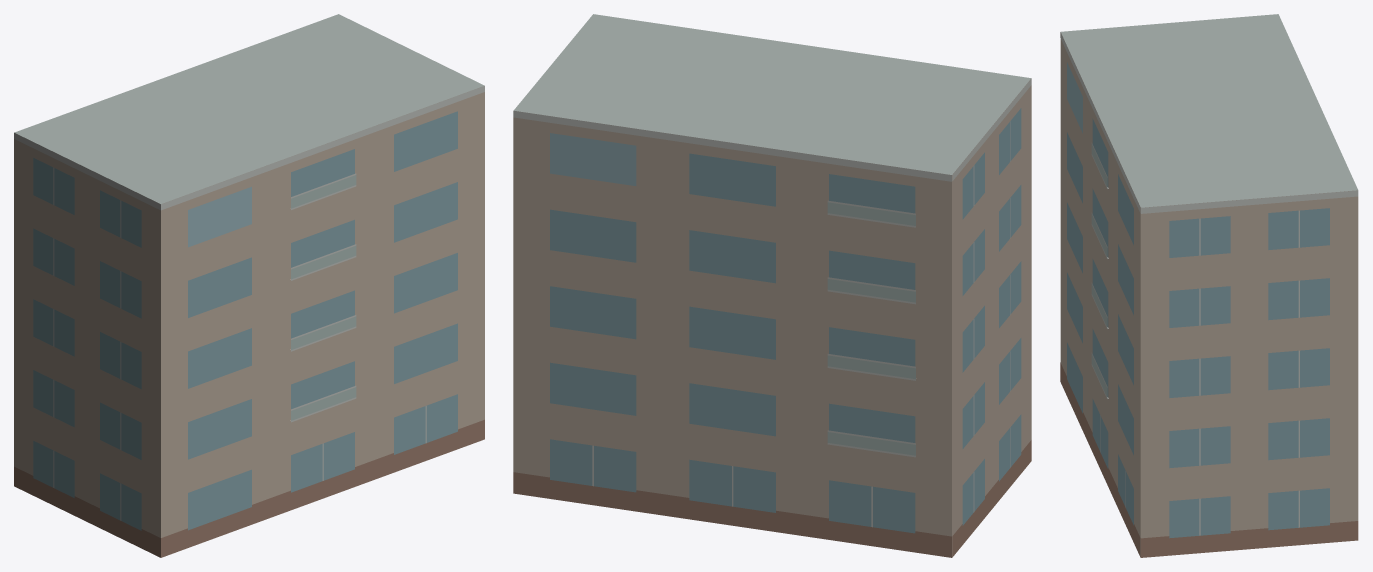
Rendered from survey-upis-33037533.glb.
The picture shows the model from 3 angles, left to right: view 1: azimuth 30°, elevation 25°; view 2: azimuth 150°, elevation 25°; view 3: azimuth 270°, elevation 25°; orthographic projection. The views are drawn at different scales.
Parts seen in each view (by area): view 1: survey-upis-33037533.tmp; view 2: survey-upis-33037533.tmp; view 3: survey-upis-33037533.tmp.
Part boxes in pixels (left/top/right/bottom): survey-upis-33037533.tmp: left=14, top=14, right=484, bottom=557; survey-upis-33037533.tmp: left=513, top=14, right=1031, bottom=557; survey-upis-33037533.tmp: left=1060, top=14, right=1358, bottom=557.
Bounding box in the file's own units: 16.39 × 13.8 × 10.65.
